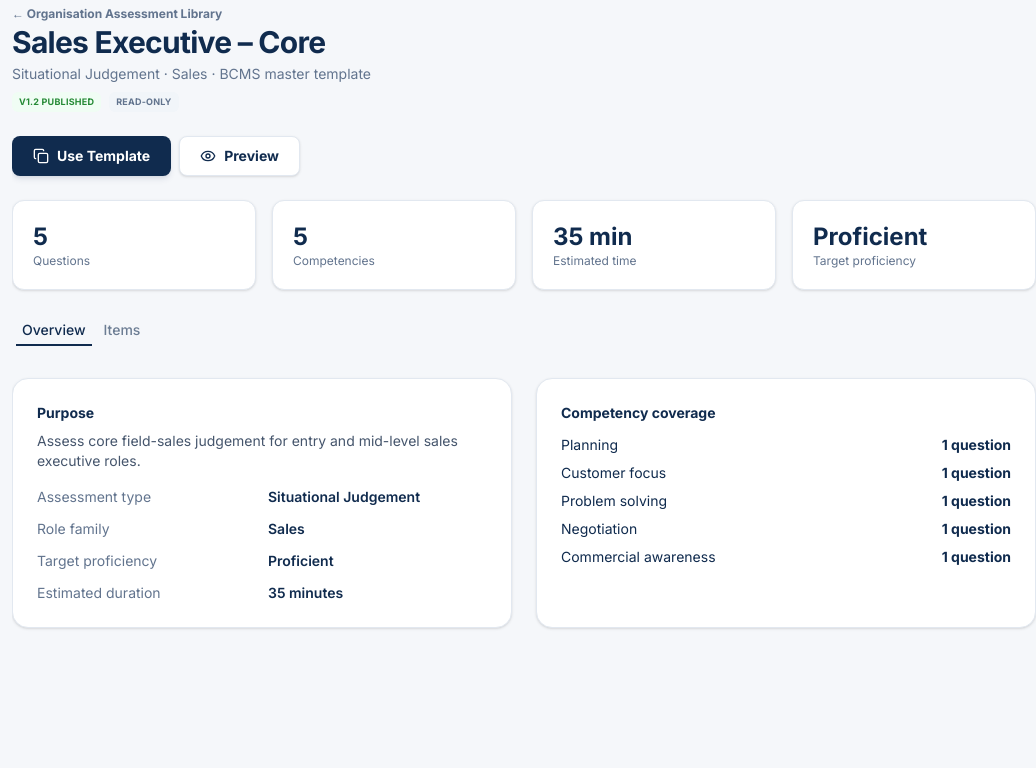
Test: Organisation assessment details › shows a BCMS master read-only, without its answer keys
Expected: the text "Read-only" is shown, [109,92,179,112]
Click the tab "Items". click: click(122, 330)
box: [96,317,147,342]
(page scrolled)
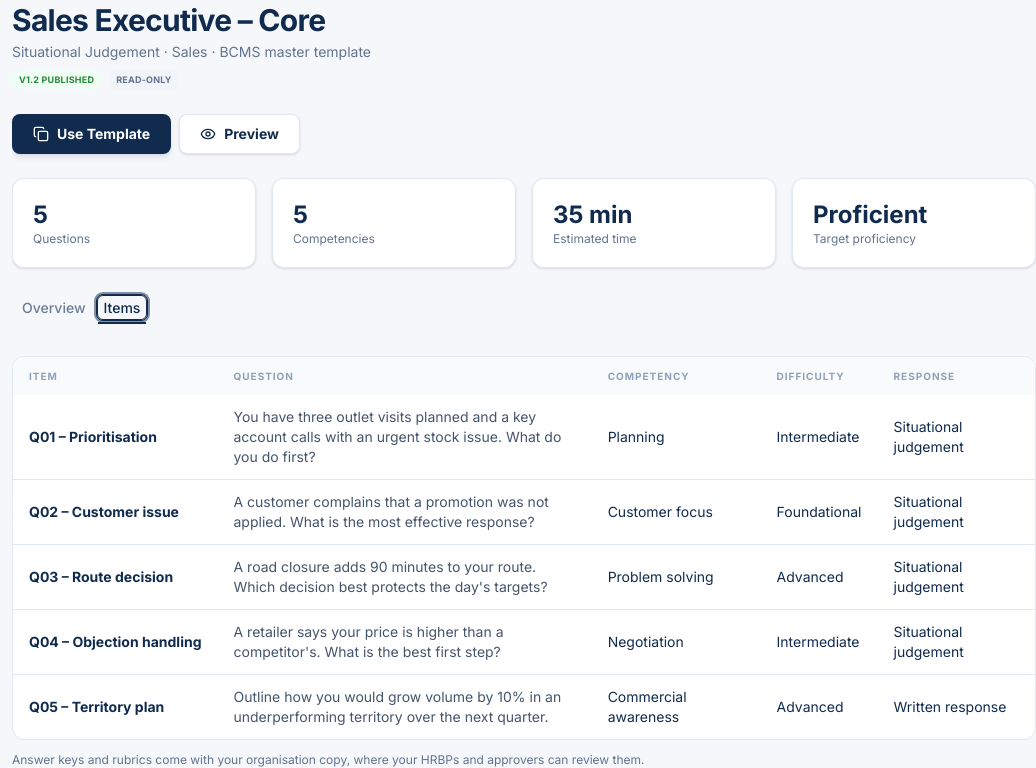
Expected: the text "Answer keys and rubrics come with your organisation copy" is shown, [12,752,644,767]
